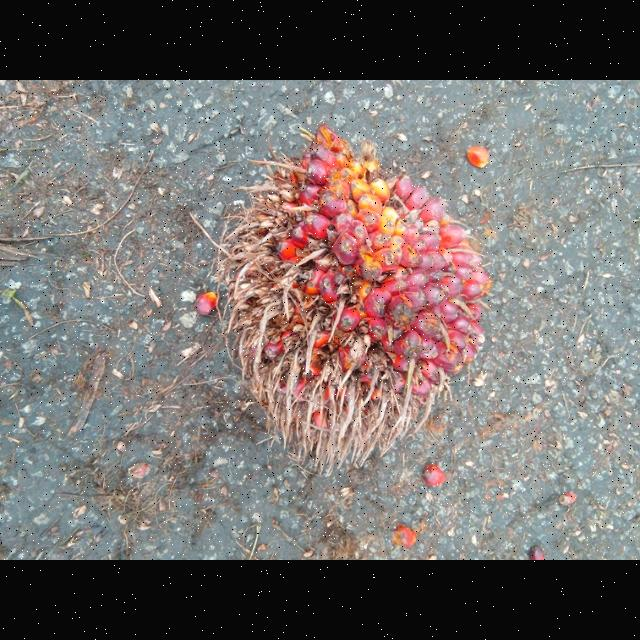Ripe: (219, 125, 492, 471)
